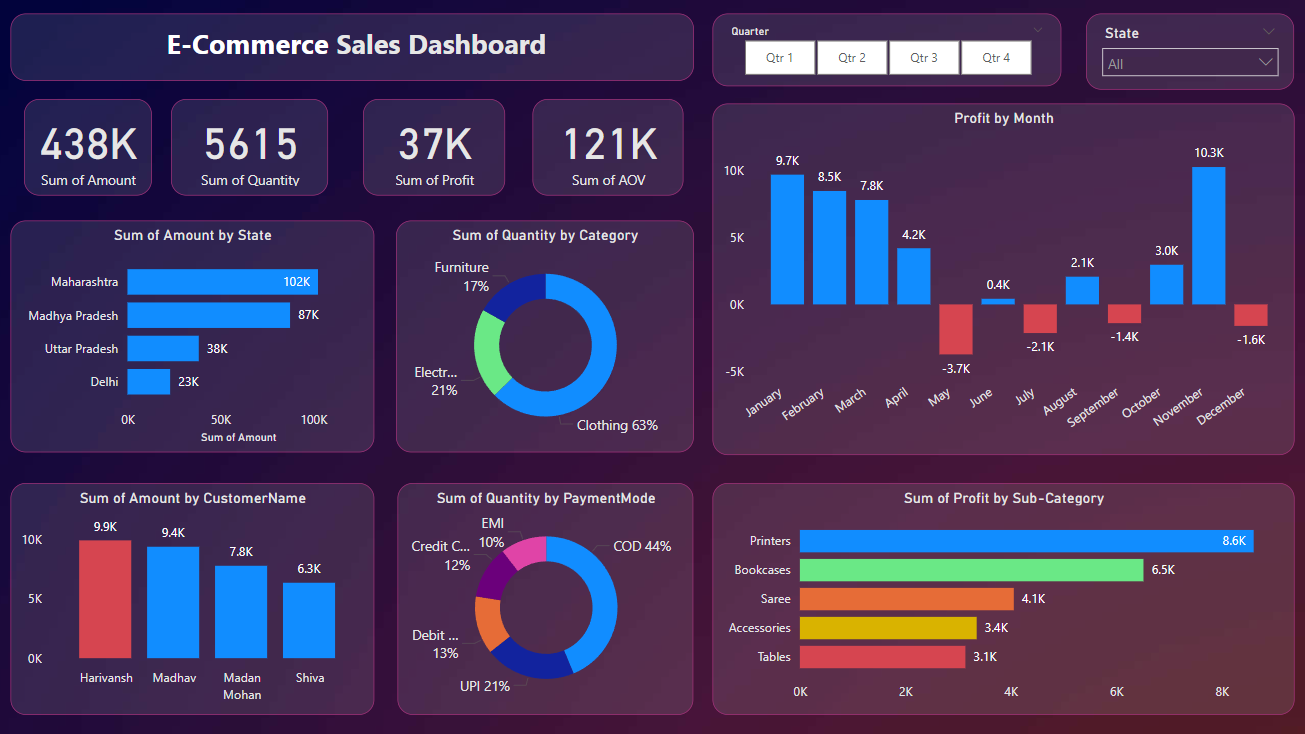

What the dashboard file says about the page in this screenshot:
{"tool":"powerbi","page":{"name":"Page 1","canvas":[1280,720],"ordinal":0},"visuals":[{"type":"columnChart","title":"Profit by Month","fields":{"Y":["Details.Profit"],"Category":["Orders.Order Date.Variation.Date Hierarchy.Month"]},"box":[698.4,102,570.5,344.9],"z":0},{"type":"barChart","fields":{"Category":["Details.Sub-Category"],"Y":["Details.Profit"]},"box":[698.4,474.3,570.5,227.1],"z":1000},{"type":"donutChart","fields":{"Y":["Details.Quantity"],"Category":["Details.Category"]},"box":[388,215.6,291.7,227.1],"z":2000},{"type":"donutChart","fields":{"Y":["Details.Quantity"],"Category":["Details.PaymentMode"]},"box":[389.5,474.3,290.3,227.1],"z":3000},{"type":"card","fields":{"Values":["Details.Amount"]},"box":[23,97.7,125,94.9],"z":4000},{"type":"card","fields":{"Values":["Details.Quantity"]},"box":[168.1,97.7,153.8,94.9],"z":5000},{"type":"card","fields":{"Values":["Details.Profit"]},"box":[356.4,97.7,139.4,94.9],"z":6000},{"type":"card","fields":{"Values":["Details.AOV"]},"box":[521.7,97.7,148,94.9],"z":7000},{"type":"barChart","fields":{"Category":["Orders.State"],"Y":["Details.Amount"]},"box":[10.1,215.6,356.4,227.1],"z":8000},{"type":"columnChart","fields":{"Category":["Orders.CustomerName"],"Y":["Details.Amount"]},"box":[10.1,474.3,356.4,227.1],"z":9000},{"type":"slicer","fields":{"Values":["Orders.Order Date.Variation.Date Hierarchy.Quarter"]},"box":[698,13.6,342.2,71.2],"z":10000},{"type":"slicer","fields":{"Values":["Orders.State"]},"box":[1064.9,12.9,204.1,74.7],"z":11000},{"type":"textbox","box":[10.1,12.9,669.7,66.1],"z":12000}]}

Visuals, with their boxes in screenshot pixels (x1, y1, x2, y2), scaled from the page's 1280x720 canvas onto the 1305x734 screenshot:
"Profit by Month" columnChart: {"left": 712, "top": 104, "right": 1294, "bottom": 456}
barChart - Details.Sub-Category x Details.Profit: {"left": 712, "top": 484, "right": 1294, "bottom": 715}
donutChart - Details.Quantity x Details.Category: {"left": 396, "top": 220, "right": 693, "bottom": 451}
donutChart - Details.Quantity x Details.PaymentMode: {"left": 397, "top": 484, "right": 693, "bottom": 715}
card - Details.Amount: {"left": 23, "top": 100, "right": 151, "bottom": 196}
card - Details.Quantity: {"left": 171, "top": 100, "right": 328, "bottom": 196}
card - Details.Profit: {"left": 363, "top": 100, "right": 505, "bottom": 196}
card - Details.AOV: {"left": 532, "top": 100, "right": 683, "bottom": 196}
barChart - Orders.State x Details.Amount: {"left": 10, "top": 220, "right": 374, "bottom": 451}
columnChart - Orders.CustomerName x Details.Amount: {"left": 10, "top": 484, "right": 374, "bottom": 715}
slicer - Orders.Order Date.Variation.Date Hierarchy.Quarter: {"left": 712, "top": 14, "right": 1061, "bottom": 86}
slicer - Orders.State: {"left": 1086, "top": 13, "right": 1294, "bottom": 89}
textbox: {"left": 10, "top": 13, "right": 693, "bottom": 81}
